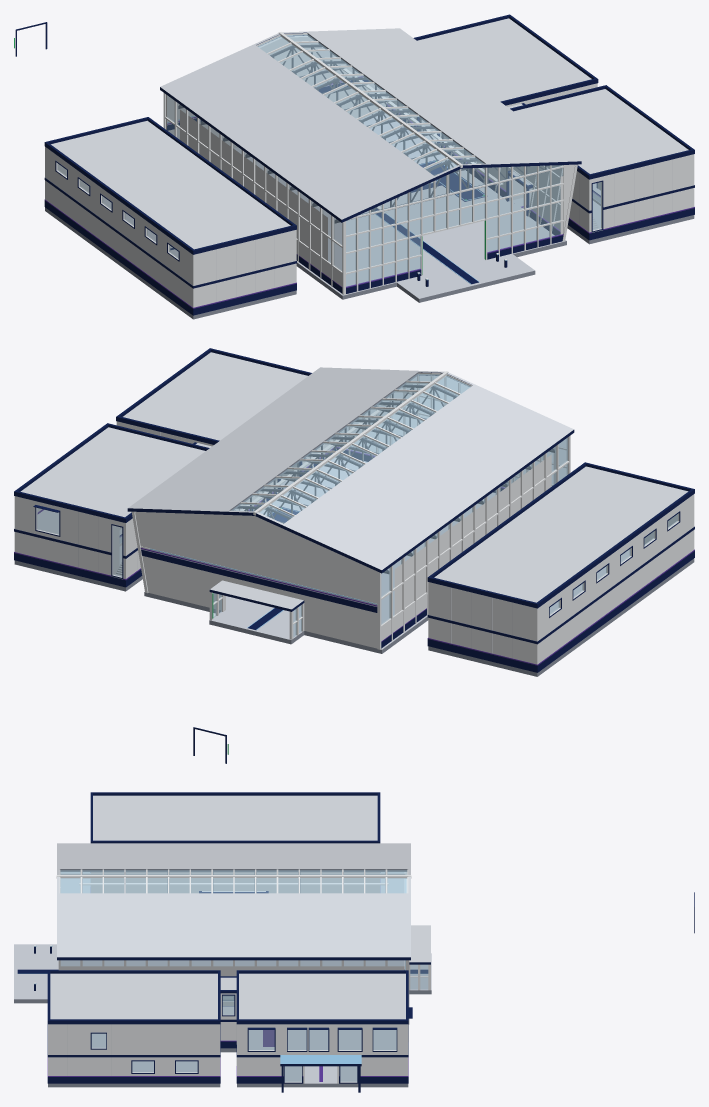
Rendered from LLASO_Facility_MIRRORED.obj.
The picture shows the model from 3 angles, top to bottom: view 1: azimuth 30°, elevation 25°; view 2: azimuth 150°, elevation 25°; view 3: azimuth 270°, elevation 25°; orthographic projection. The views are drawn at different scales.
Parts seen in each view (by area): view 1: LLASO_Facility, LLASO_Room_RobotHangar, LLASO_Room_IDK, LLASO_Room_EntranceLobby; view 2: LLASO_Facility, LLASO_Room_RobotHangar, LLASO_Room_EntranceLobby, LLASO_Room_IDK; view 3: LLASO_Facility, LLASO_Room_EntranceLobby, LLASO_Room_IDK, LLASO_Room_RobotHangar, LLASO_L2_Slab, LLASO_L2_Bridge, LLASO_Link_IDK_Lobby.
Part boxes in pixels (x1,y1,x2,y2): LLASO_Facility: (160, 28, 581, 302); LLASO_Room_RobotHangar: (44, 117, 296, 319); LLASO_Room_IDK: (510, 85, 694, 244); LLASO_Room_EntranceLobby: (14, 14, 598, 106); LLASO_Facility: (127, 367, 574, 653); LLASO_Room_RobotHangar: (427, 462, 694, 676); LLASO_Room_EntranceLobby: (14, 423, 228, 763); LLASO_Room_IDK: (116, 348, 311, 446); LLASO_Facility: (14, 843, 431, 1024); LLASO_Room_EntranceLobby: (236, 892, 694, 1092); LLASO_Room_IDK: (47, 970, 220, 1087); LLASO_Room_RobotHangar: (90, 792, 380, 843); LLASO_L2_Slab: (91, 1030, 396, 1049); LLASO_L2_Bridge: (220, 976, 236, 1019); LLASO_Link_IDK_Lobby: (220, 1006, 236, 1052).
Bounding box in the file's own units: 77.36 × 15.7 × 93.8.
